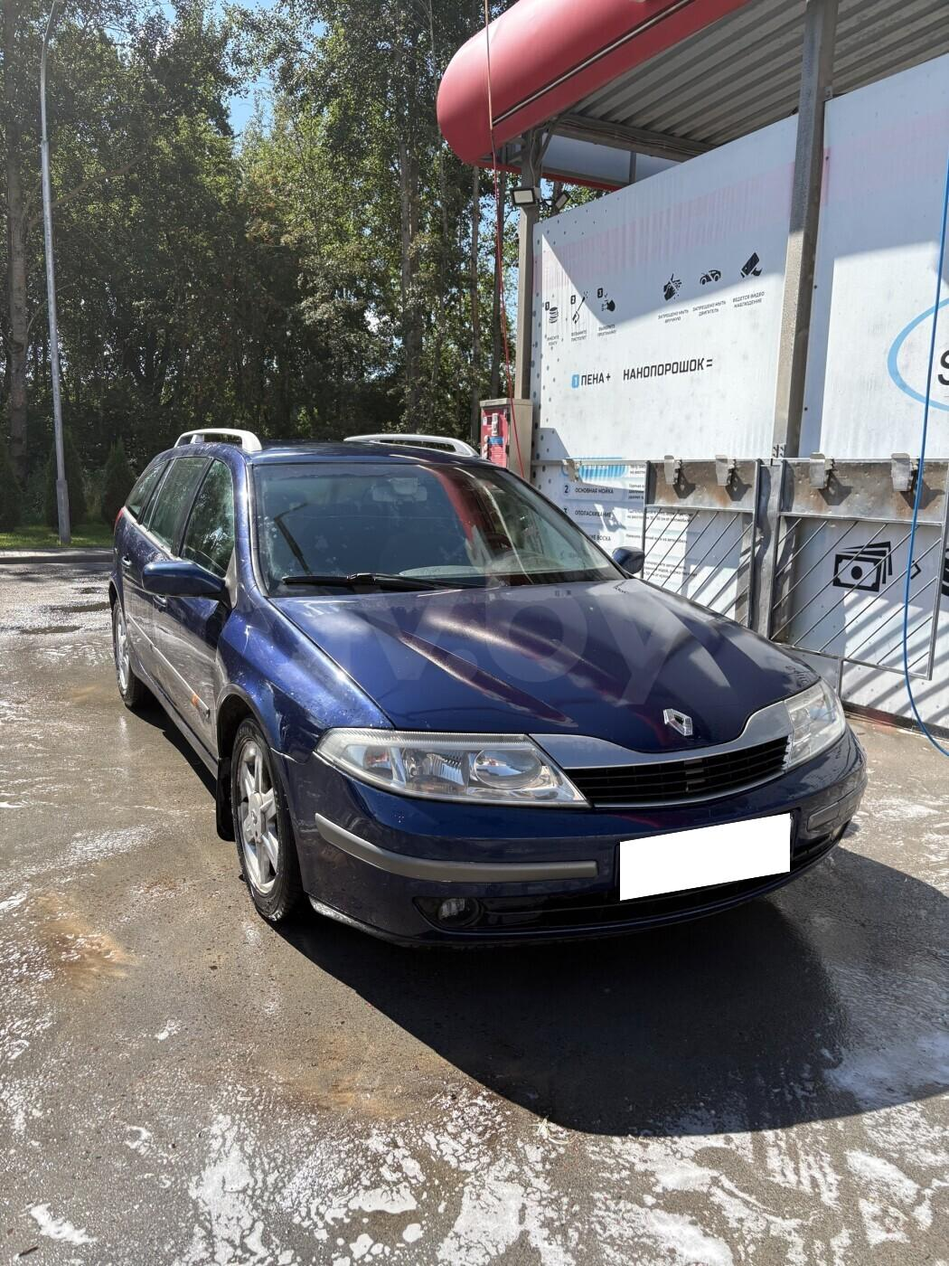Laguna_2001-2005: (108, 429, 866, 944)
